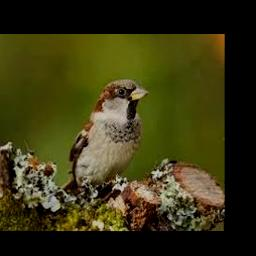Sparrow: (60, 79, 149, 197)
